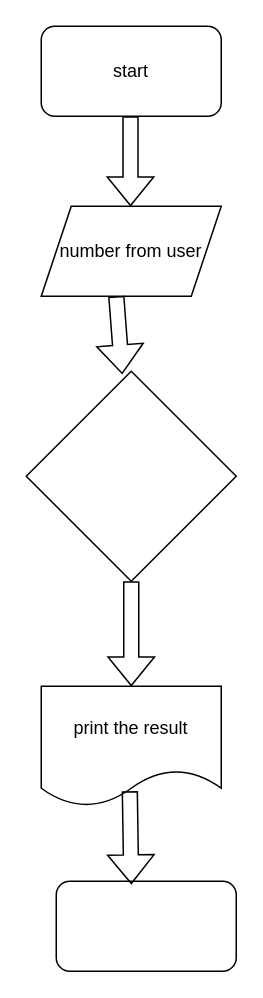
This 263x998 diagram has some shape labels left out. Here are the shapes that lost their labels. From the top down, the centre of each, then its label:
the point at 130,475: the number from the user multiplay by 3600
the point at 145,925: end
